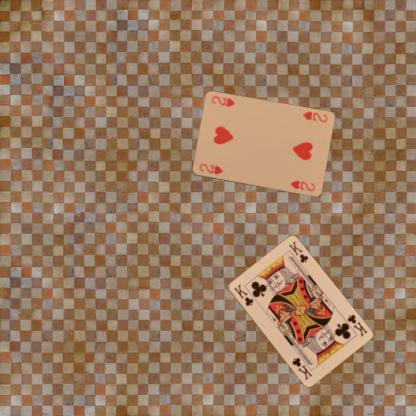2h: (196, 161, 224, 176), (300, 109, 328, 124)
Kc: (344, 312, 369, 338), (231, 282, 255, 308)
